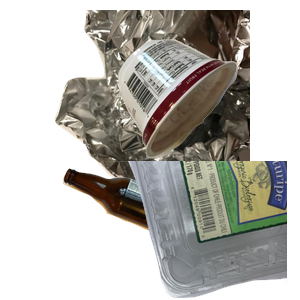glass: (60, 166, 241, 300)
metal: (52, 10, 292, 190)
plastic: (60, 161, 300, 300)
trash: (116, 36, 300, 187)
